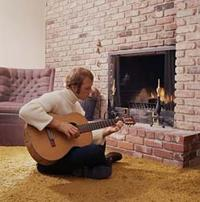person: (19, 68, 123, 180)
